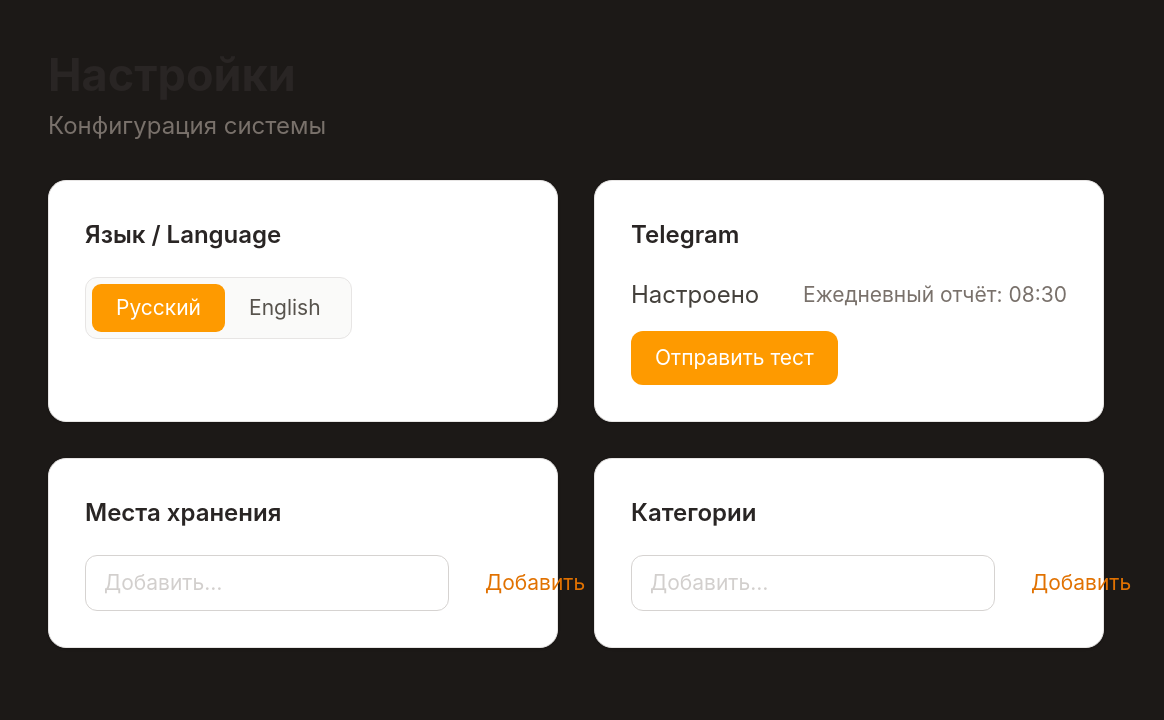
it: SettingsPage › shows telegram status and a success toast on test send
Expected: the text "Настроено" is shown, [631, 277, 759, 313]
Click the button "Отправить тест" at [734, 358], box [631, 331, 838, 385]
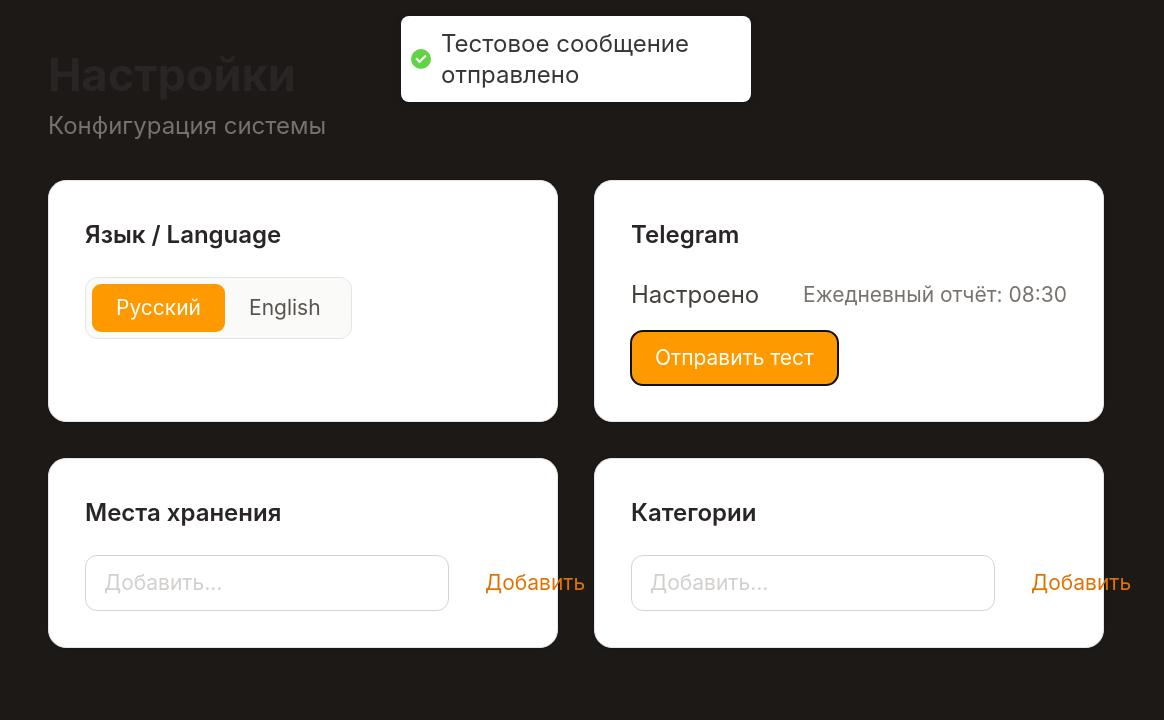
Now the text "Тестовое сообщение отправлено" is shown, box [441, 28, 731, 90]
